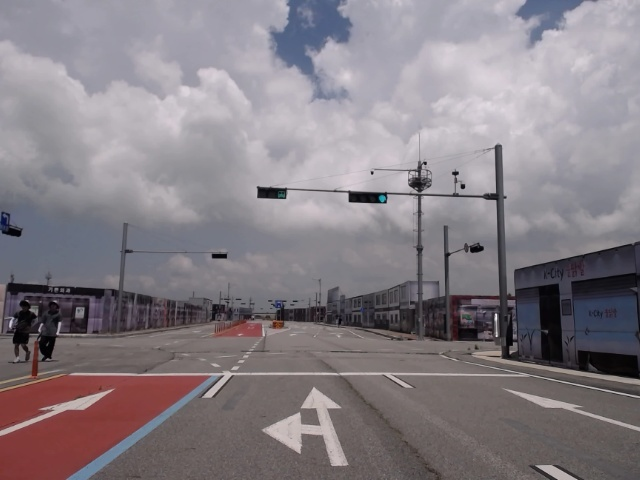straight_green_4: (349, 191, 386, 201)
